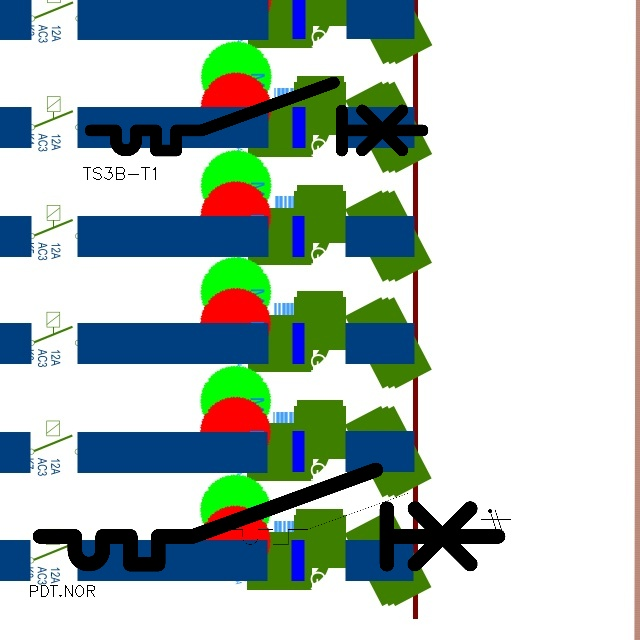interruptor_termomagnetico: (28, 458, 510, 576), (82, 74, 431, 159), (217, 487, 481, 551)
